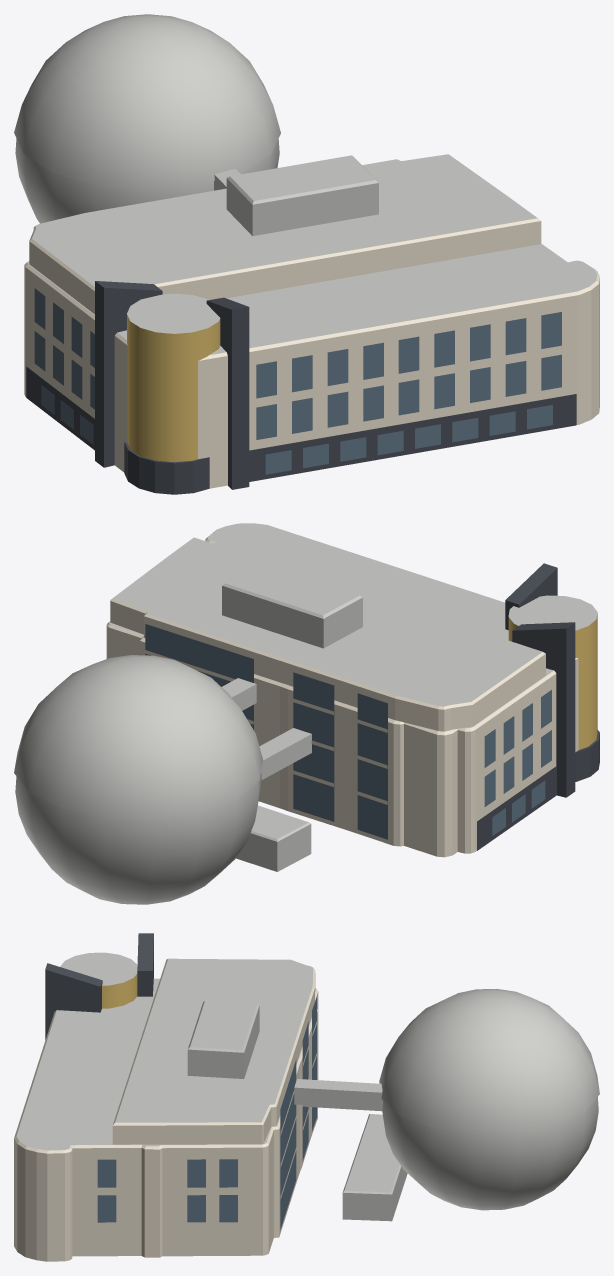
3 views of the same model, one above another, from view 1: azimuth 30°, elevation 25°; view 2: azimuth 150°, elevation 25°; view 3: azimuth 270°, elevation 25° (orthographic). The views are drawn at different scales.
Visible parts, largest first — view 1: academy-museum-of-motion-pictures; view 2: academy-museum-of-motion-pictures; view 3: academy-museum-of-motion-pictures.
Boxes of the visible parts, x1,y1,x2,y2 form: academy-museum-of-motion-pictures: (14,14,599,494); academy-museum-of-motion-pictures: (14,523,599,904); academy-museum-of-motion-pictures: (14,933,599,1261).
Bounding box in the file's own units: 81.58 × 40 × 113.
